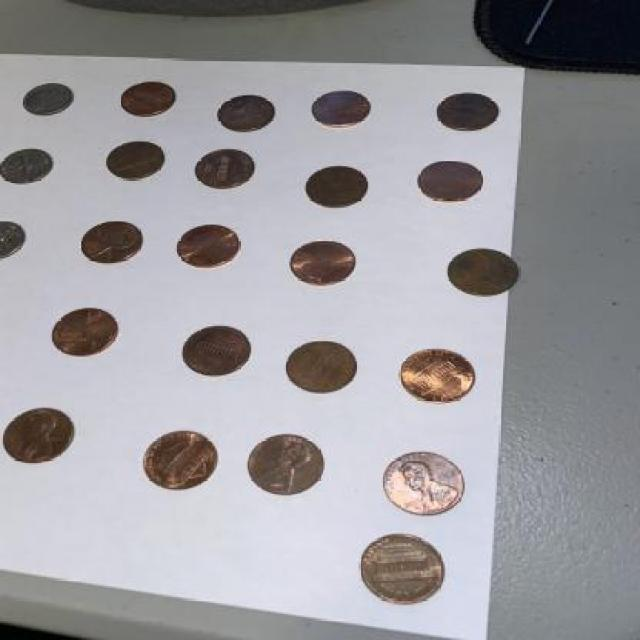Nickel: (1, 146, 57, 189), (18, 82, 82, 118), (1, 218, 28, 258)
Penny: (357, 530, 448, 604), (383, 449, 469, 514), (246, 432, 325, 496), (395, 346, 477, 404), (142, 429, 218, 491), (286, 332, 363, 392), (1, 406, 78, 463), (442, 245, 522, 298), (178, 322, 252, 376), (284, 237, 358, 290), (47, 307, 121, 358), (412, 158, 490, 204), (303, 162, 374, 208), (177, 223, 245, 269), (80, 218, 146, 264), (304, 90, 376, 132), (211, 94, 280, 136), (431, 91, 498, 134), (117, 80, 177, 120), (106, 140, 165, 180), (200, 149, 257, 189)
